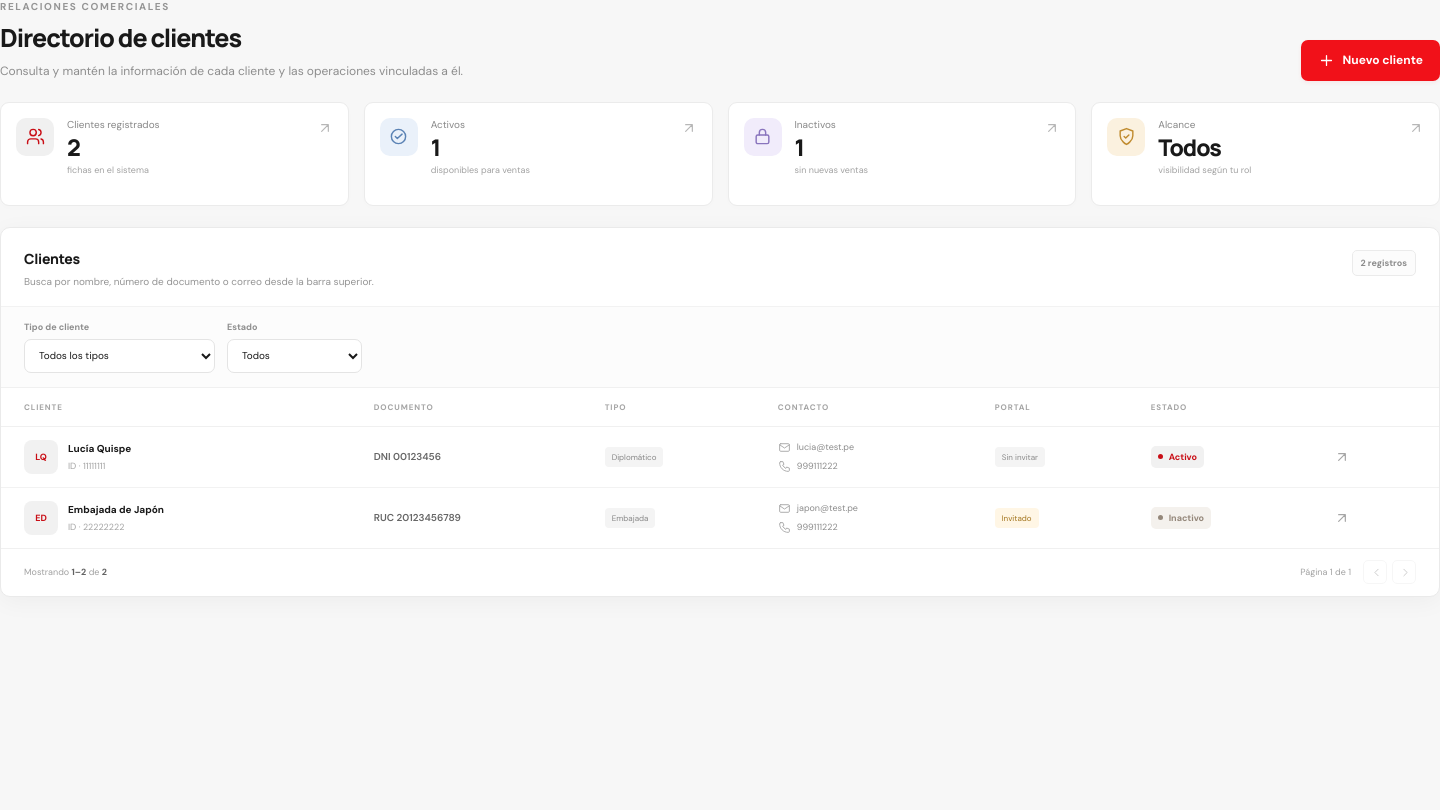
Test case: creating a customer › fills the names from the document check, locks them, and creates with the right provenance
Expected: the text "Lucía Quispe" is shown, [68,442,131,455]
Click the button "Nuevo cliente" at (1370, 60), box [1301,40,1439,81]
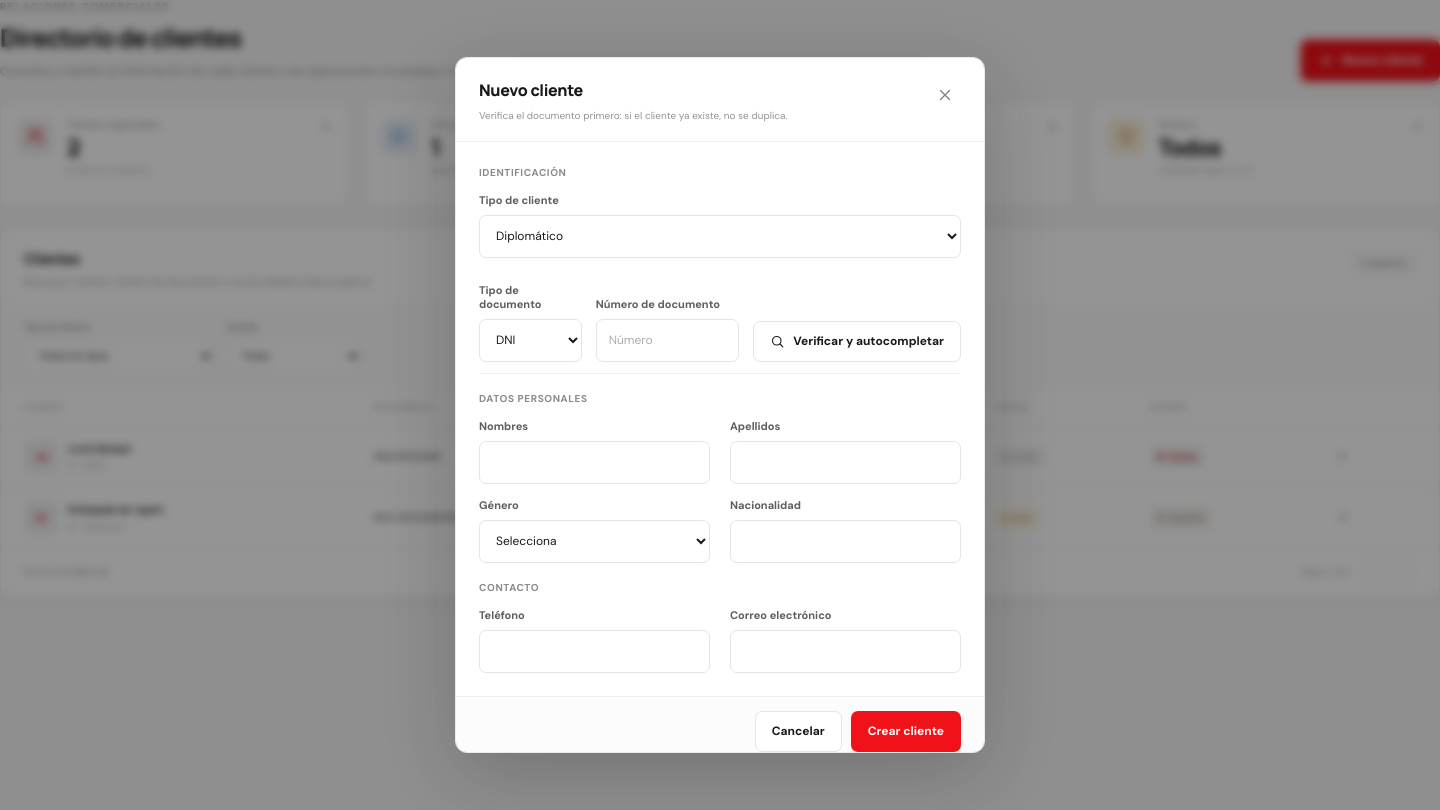
Type "45678901" into the field labelled "Número de documento" at (667, 340), box [596,319,739,362]
Click the button "Verificar y autocompletar" at (857, 341), box [753,321,961,362]
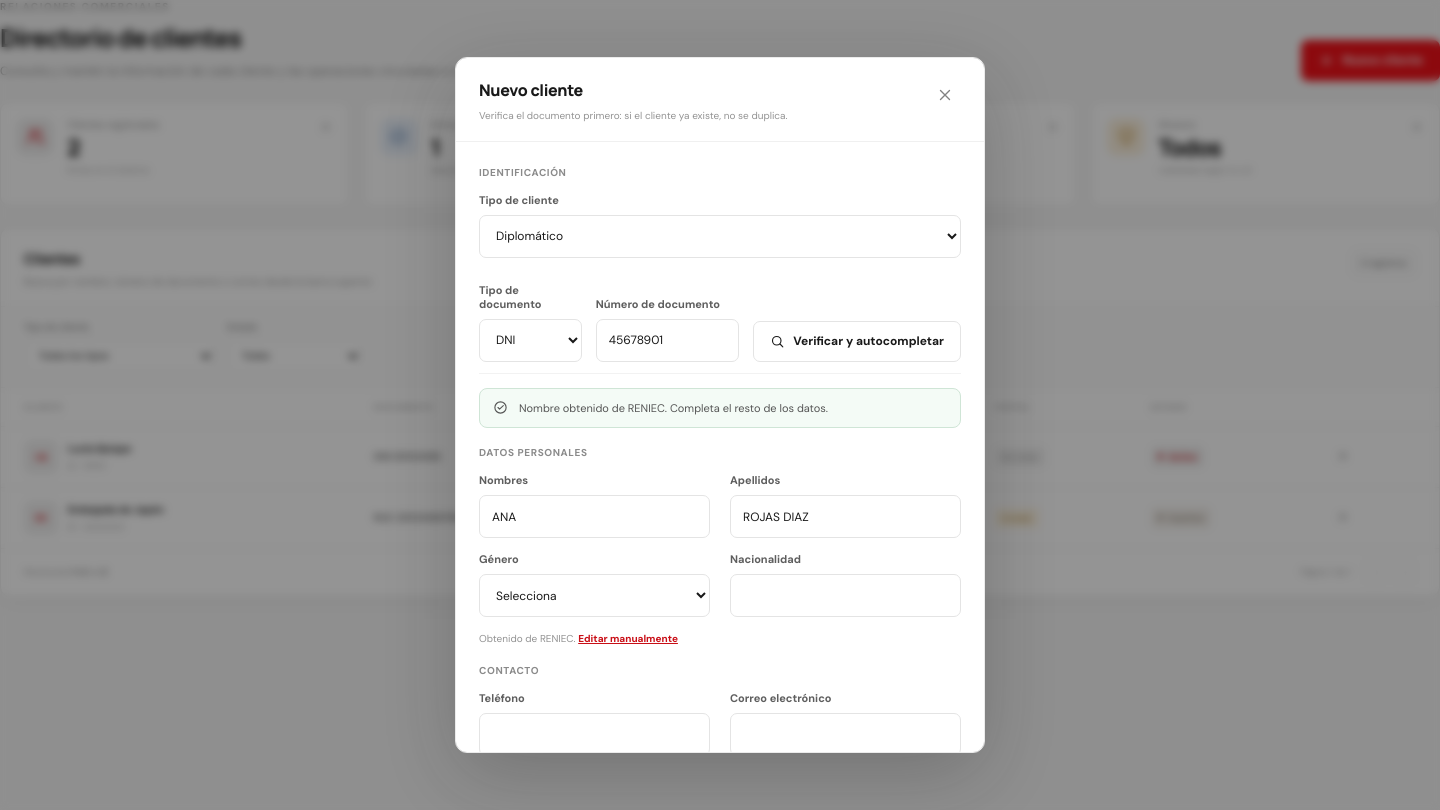
Result: the text "Nombre obtenido de RENIEC. Completa el resto de los datos." is shown at [519,400,828,416]
Result: the field labelled "Nombres" holds "ANA" at [479,495,710,538]
Result: the field labelled "Apellidos" holds "ROJAS DIAZ" at [730,495,961,538]
Type "Peruana" into the field labelled "Nacionalidad" at (846, 596), box [730,574,961,617]
Type "999000111" into the field labelled "Teléfono" at (594, 735), box [479,713,710,756]
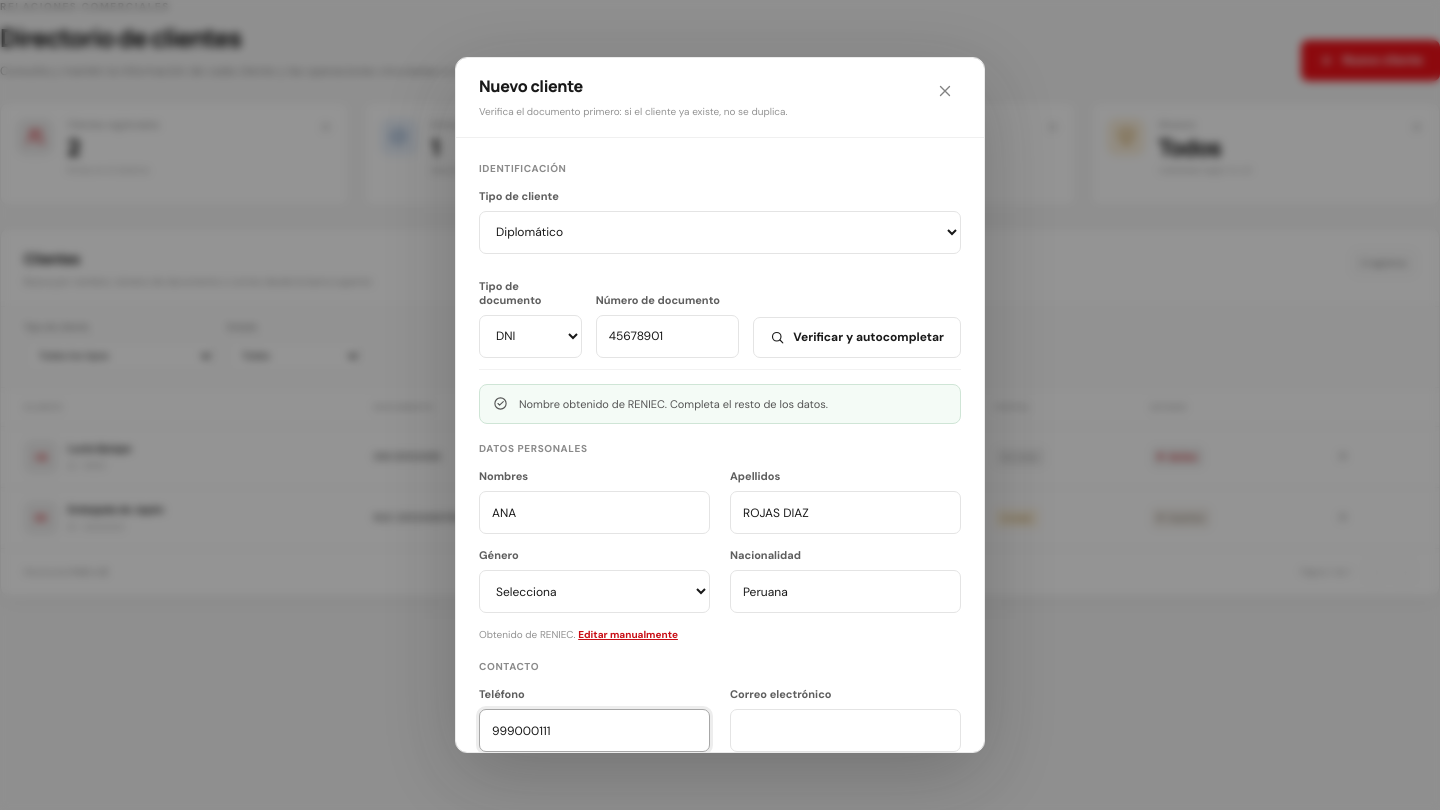
Type "nuevo@test.pe" into the field labelled "Correo electrónico" at (846, 731), box [730,709,961,752]
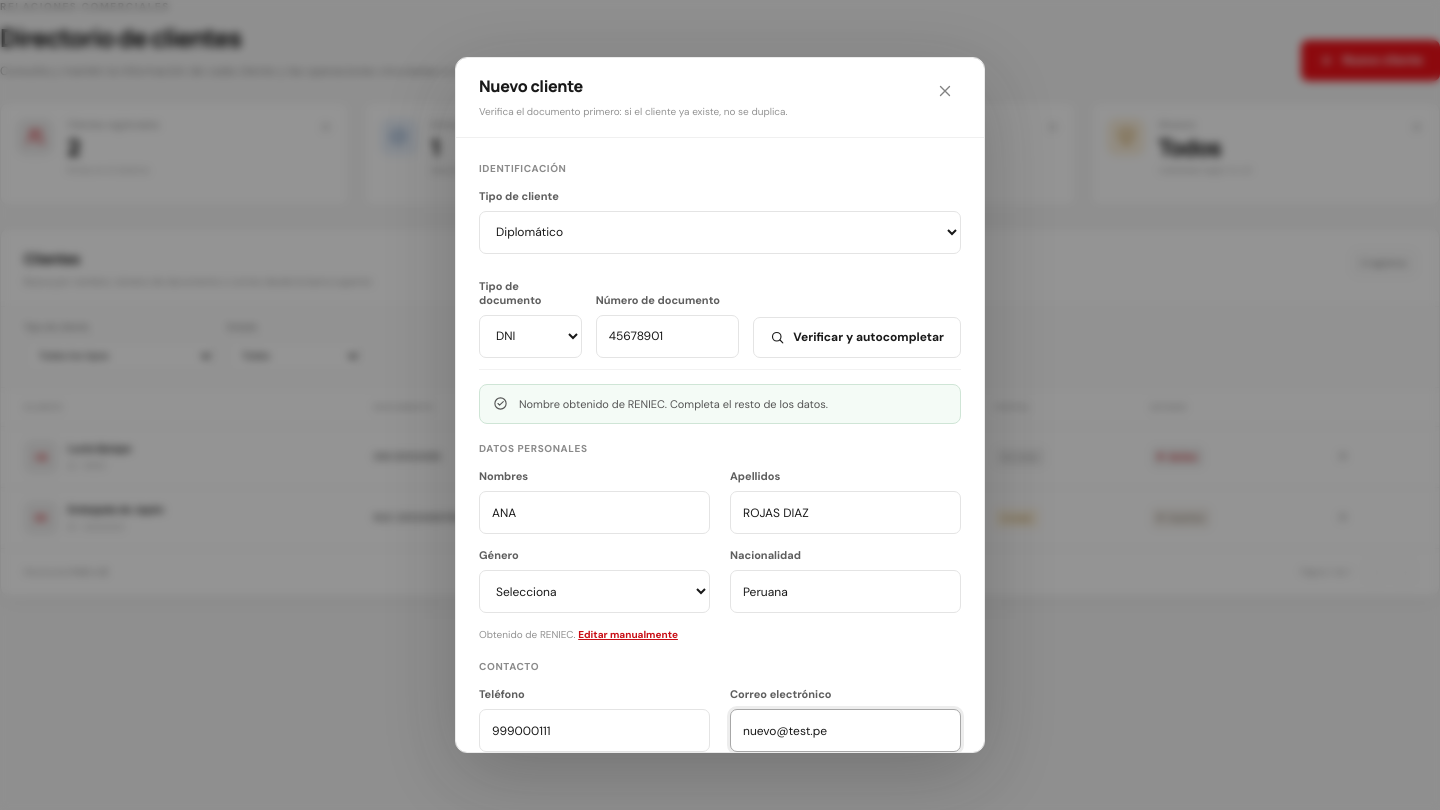
Select "Femenino" in the dropdown labelled "Género" at (594, 592), box [479,570,710,613]
(page scrolled)
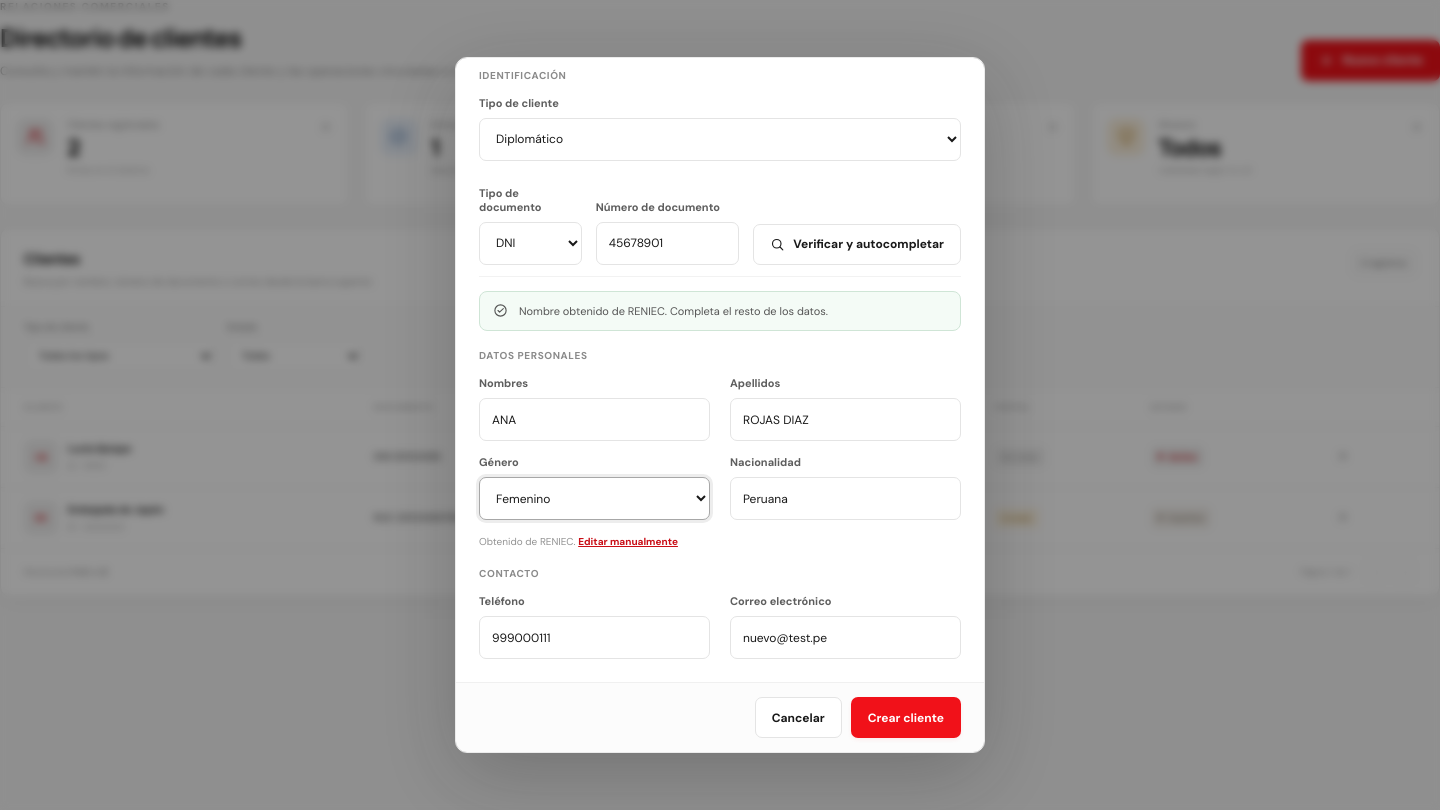
Click the button "Crear cliente" at (906, 718), box [851,697,961,738]
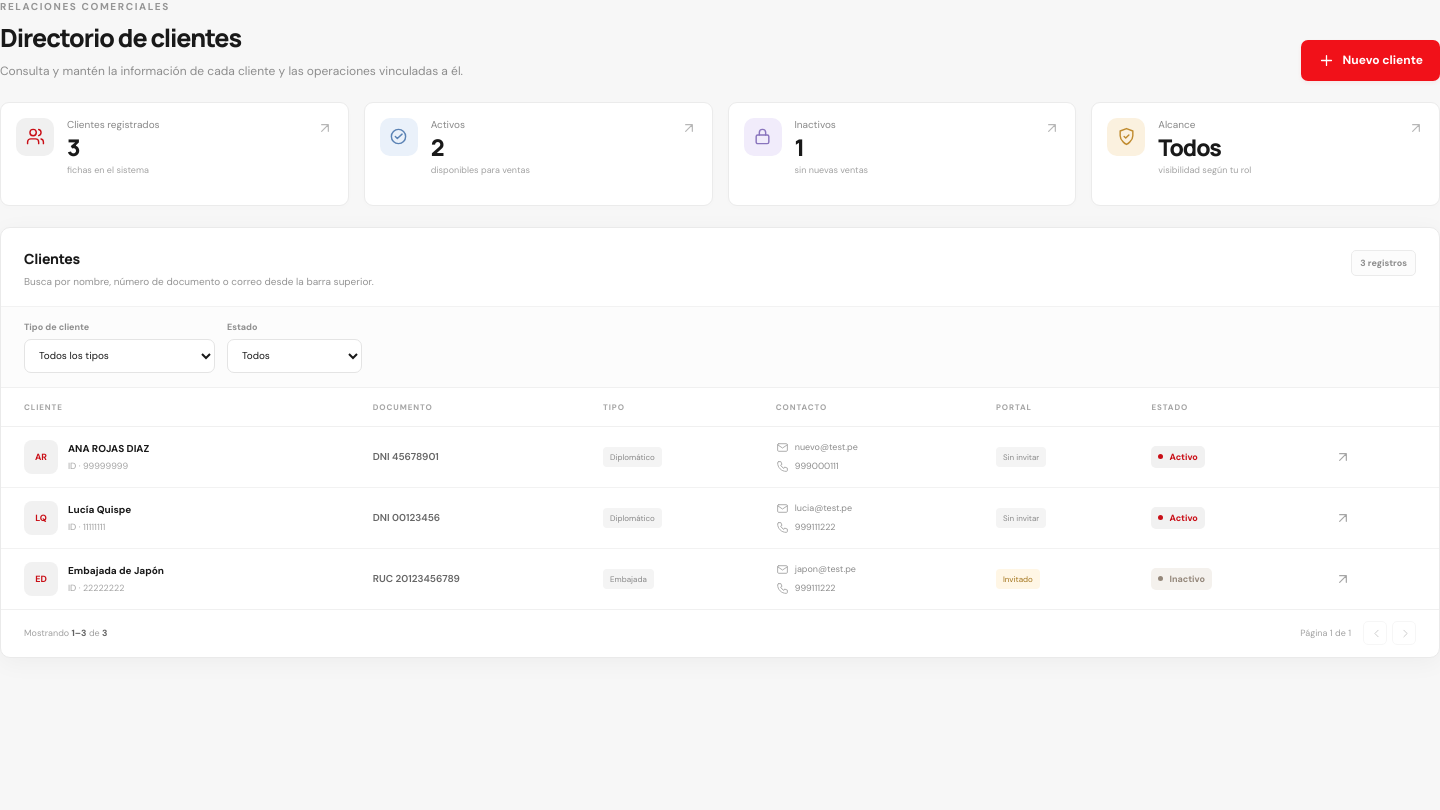
Result: the dialog is gone
Result: the text "ANA ROJAS DIAZ" is shown at [68,442,149,455]
